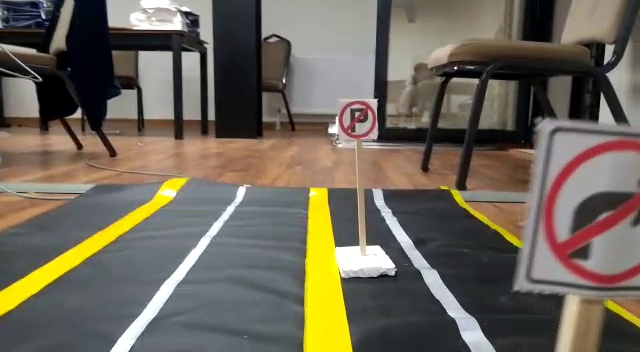park_yapilmaz: (337, 100, 382, 141)
saga_donulmez: (536, 120, 640, 286)
